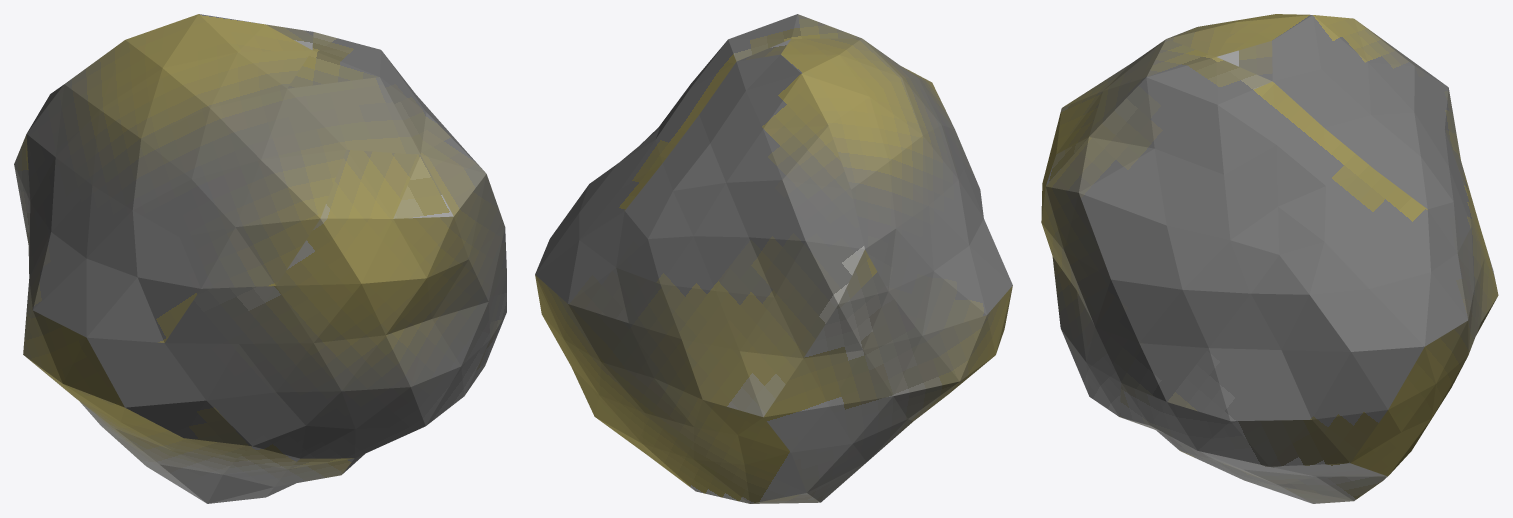
File: Rock.gltf
The picture shows the model from 3 angles, left to right: view 1: azimuth 30°, elevation 25°; view 2: azimuth 150°, elevation 25°; view 3: azimuth 270°, elevation 25°; orthographic projection. The views are drawn at different scales.
Parts seen in each view (by area): view 1: Rock; view 2: Rock; view 3: Rock.
Part boxes in pixels (<box>): Rock: <box>14,14,506,503</box>; Rock: <box>535,14,1012,503</box>; Rock: <box>1041,14,1498,503</box>.
Size of what is drawn, in the model's own units: 1.92 by 1.97 by 1.8.
Materials: 1 (1 with a texture image).
